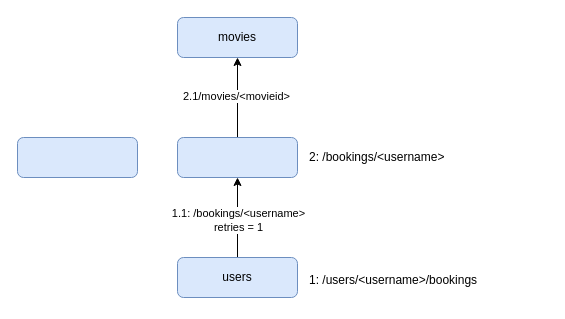
The diagram is 565 pixels wide and 319 high, and some of its shapes have lost their labels. Each missing label, with the centre of its shape:
"bookings" belongs at point 237,157.
"showtimes" belongs at point 77,157.
